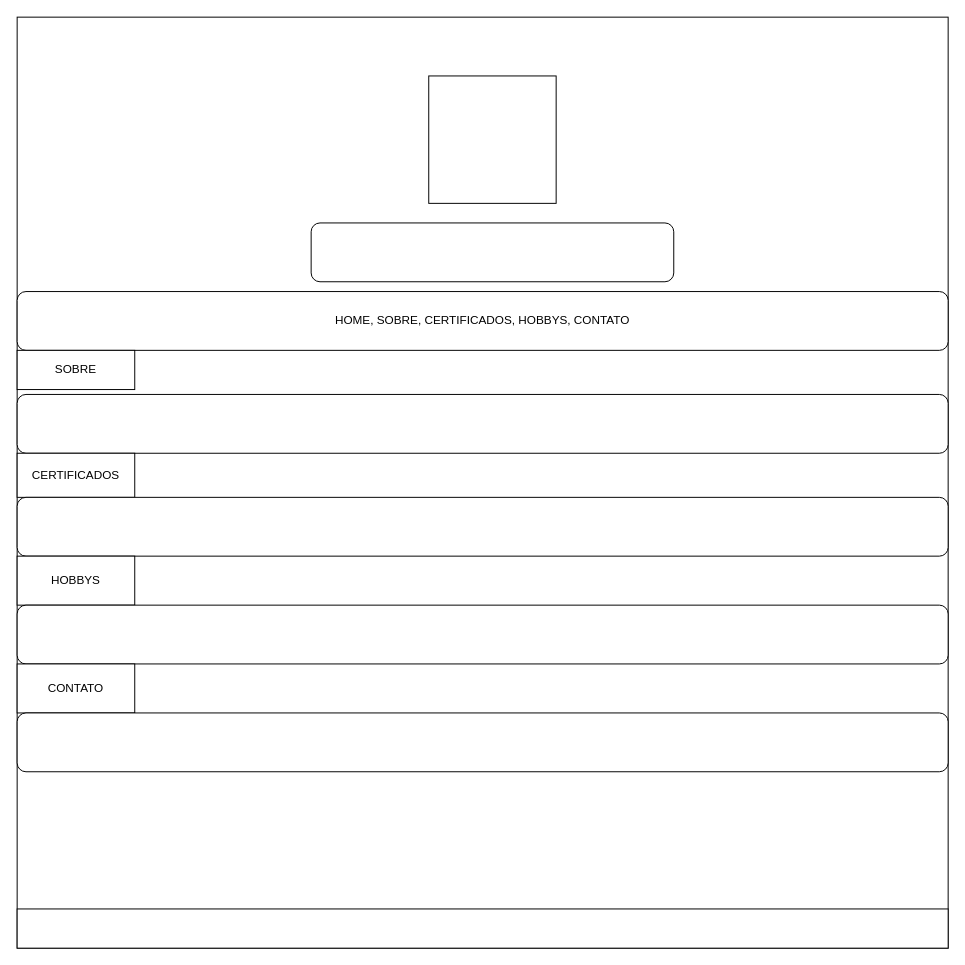
Some shapes in this 965 by 965 pixel diagram are drawn without their labels. Here are the shapes that lost their labels. From the top down, the box of each, then its label:
(428, 75, 556, 203): Foto
(310, 222, 674, 282): Nome
